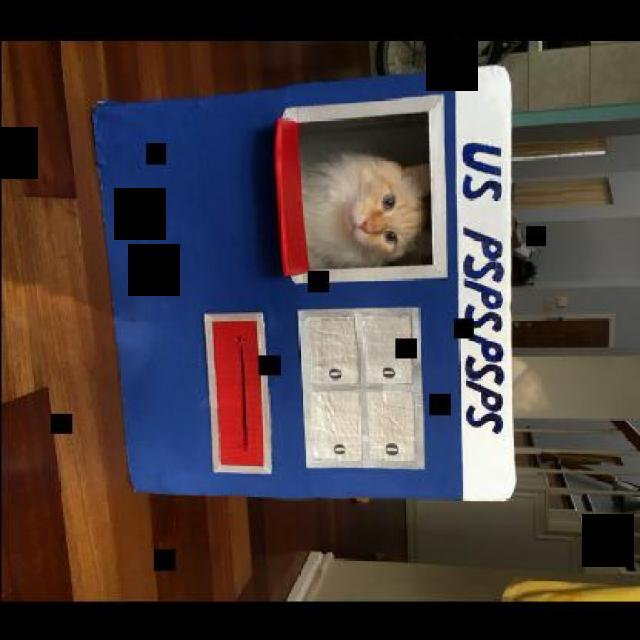unauthorized: (300, 149, 431, 268)
